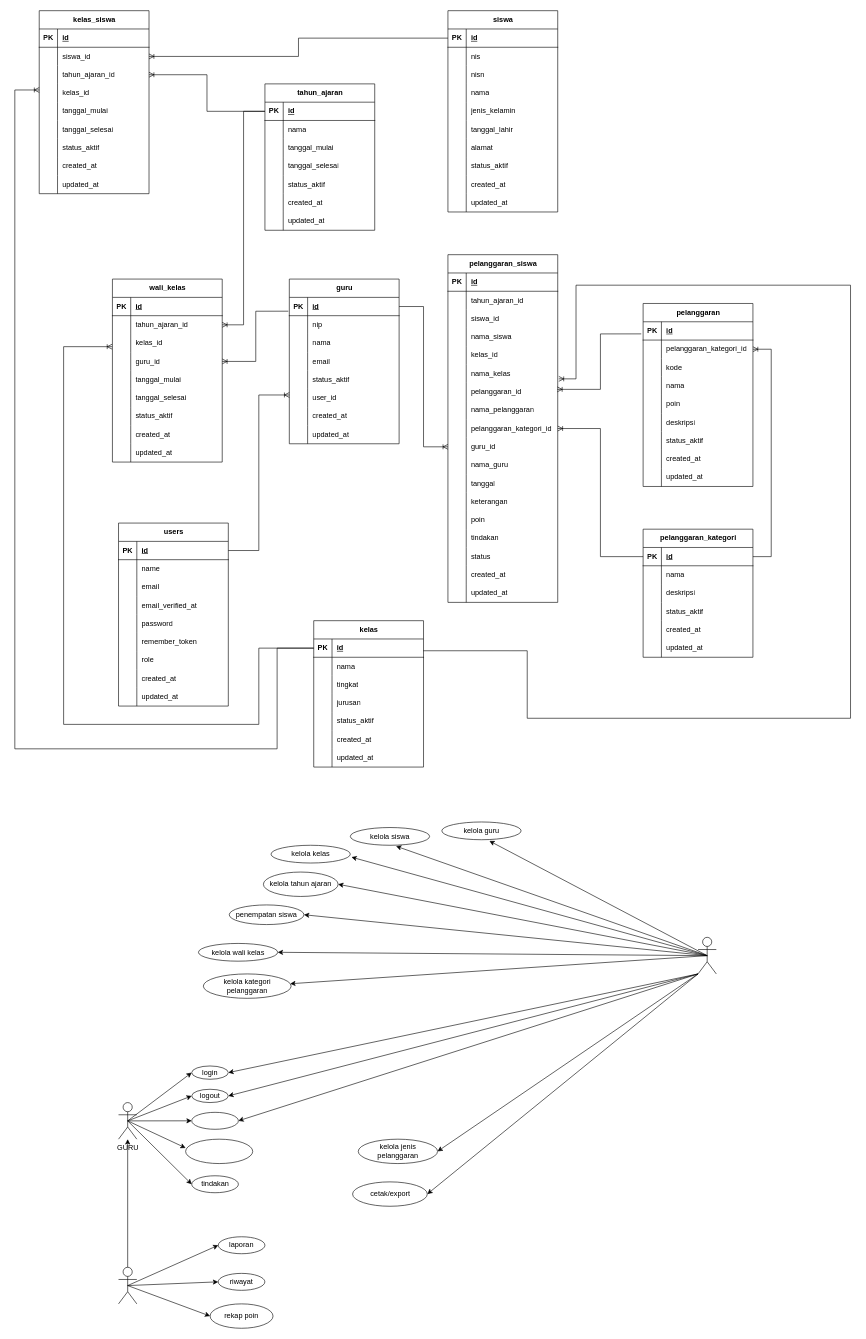
The diagram is 866 pixels wide and 1339 high, and some of its shapes have lost their labels. The centre of each missing label's shape, as x and y in pixels:
Admin: point (706, 955)
catatan pelanggaran: point (219, 1151)
dashboard: point (214, 1120)
Wali kelas: point (127, 1285)
